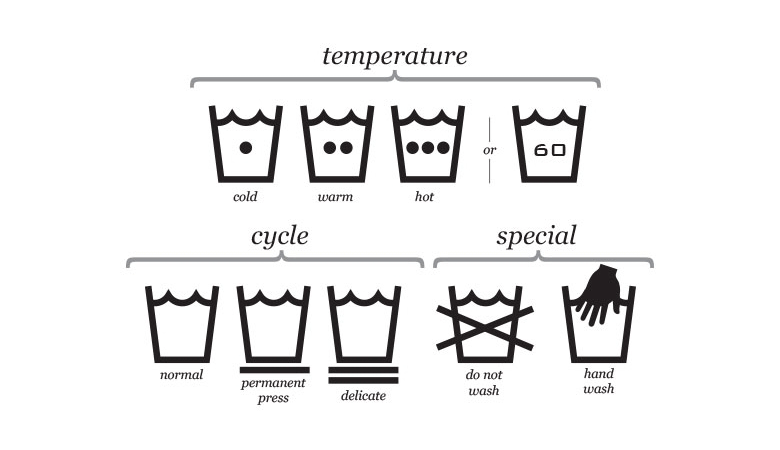do_not_wash: (433, 278, 541, 368)
